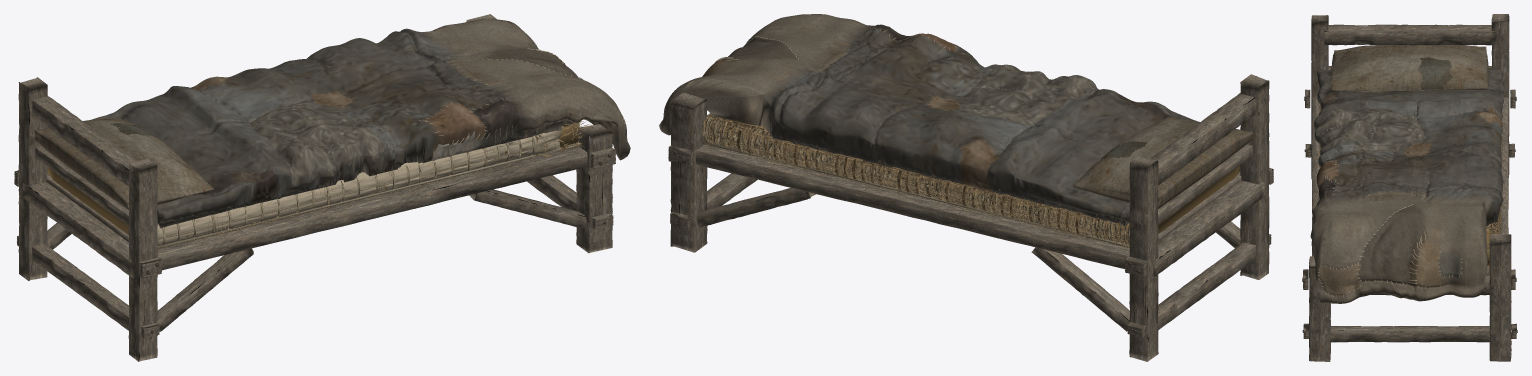
The model's file is Model_PatchedTimberBed.glb.
3 views of the same model, side by side, from view 1: azimuth 30°, elevation 25°; view 2: azimuth 150°, elevation 25°; view 3: azimuth 270°, elevation 25° (orthographic). The views are drawn at different scales.
Visible parts, largest first — view 1: Quilt, Frame, BS_FootCloth.001, Straw, Pillow, Sewing; view 2: Quilt, Frame, Straw, BS_FootCloth.001, Pillow; view 3: Quilt, BS_FootCloth.001, Frame, Pillow, Sewing, Straw.
Boxes of the visible parts, x1,y1,x2,y2 form: Quilt: (91, 28, 561, 228); Frame: (14, 14, 615, 361); BS_FootCloth.001: (417, 18, 630, 160); Straw: (47, 121, 591, 249); Pillow: (34, 117, 213, 210); Sewing: (197, 43, 626, 194); Quilt: (770, 24, 1197, 225); Frame: (668, 74, 1273, 361); Straw: (702, 113, 1240, 248); BS_FootCloth.001: (659, 14, 873, 135); Pillow: (1073, 117, 1253, 208); Quilt: (1314, 68, 1504, 222); BS_FootCloth.001: (1310, 195, 1494, 303); Frame: (1302, 14, 1517, 361); Pillow: (1331, 45, 1488, 91); Sewing: (1316, 91, 1495, 296); Straw: (1318, 103, 1502, 269).
Size of the model in its own units: 2.47 by 0.8929 by 1.1.
Materials: 6 (5 with a texture image).
